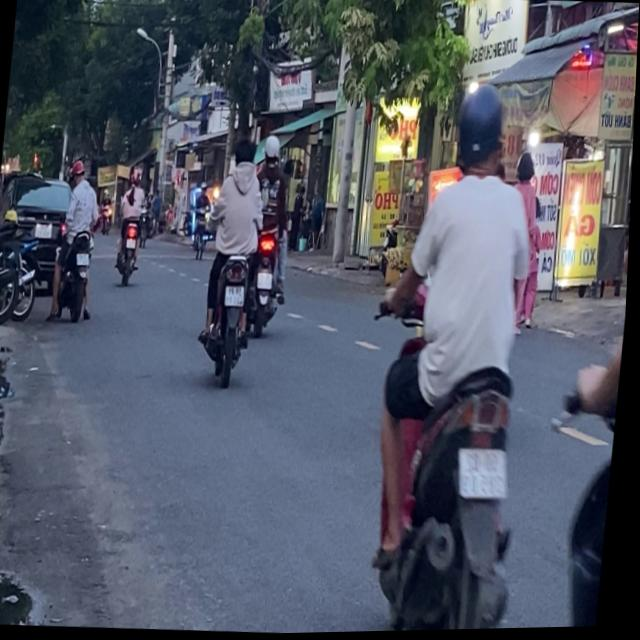helmet: (451, 81, 512, 181), (263, 133, 284, 166), (71, 157, 88, 184)
licenseplate: (353, 75, 560, 633), (196, 130, 274, 386), (243, 130, 303, 337), (49, 155, 108, 323)
motorcyclist: (233, 134, 259, 171)
nohelmet: (461, 448, 514, 499), (227, 285, 247, 306), (259, 272, 275, 289), (78, 251, 92, 265)
